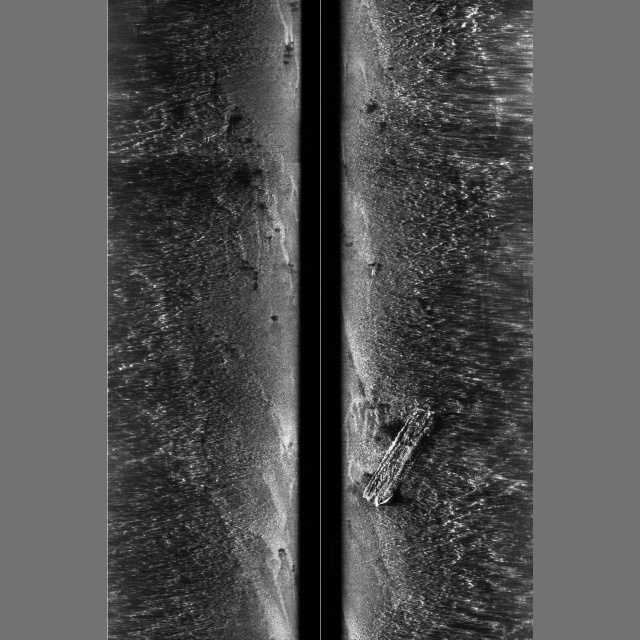Shipwreck: (363, 398, 437, 507)
